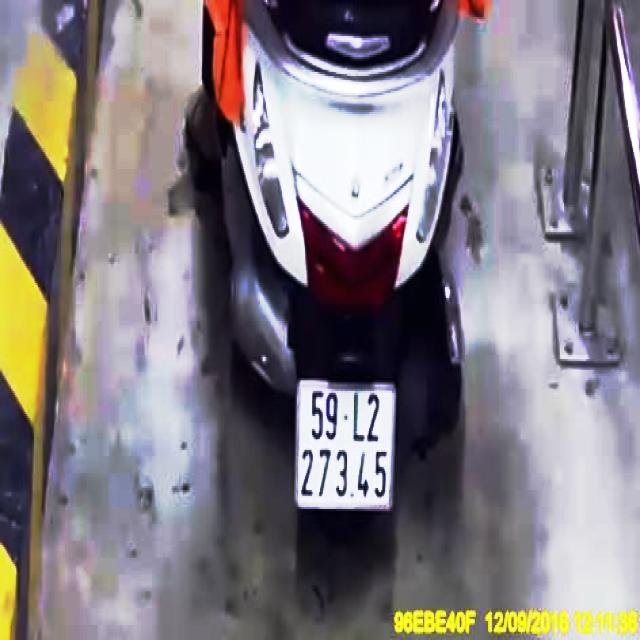license_plate: (299, 383, 394, 510)
